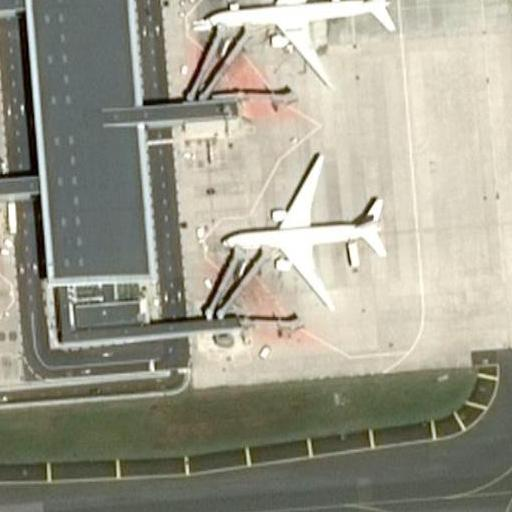Aircraft: (213, 147, 393, 317), (195, 0, 398, 83)
